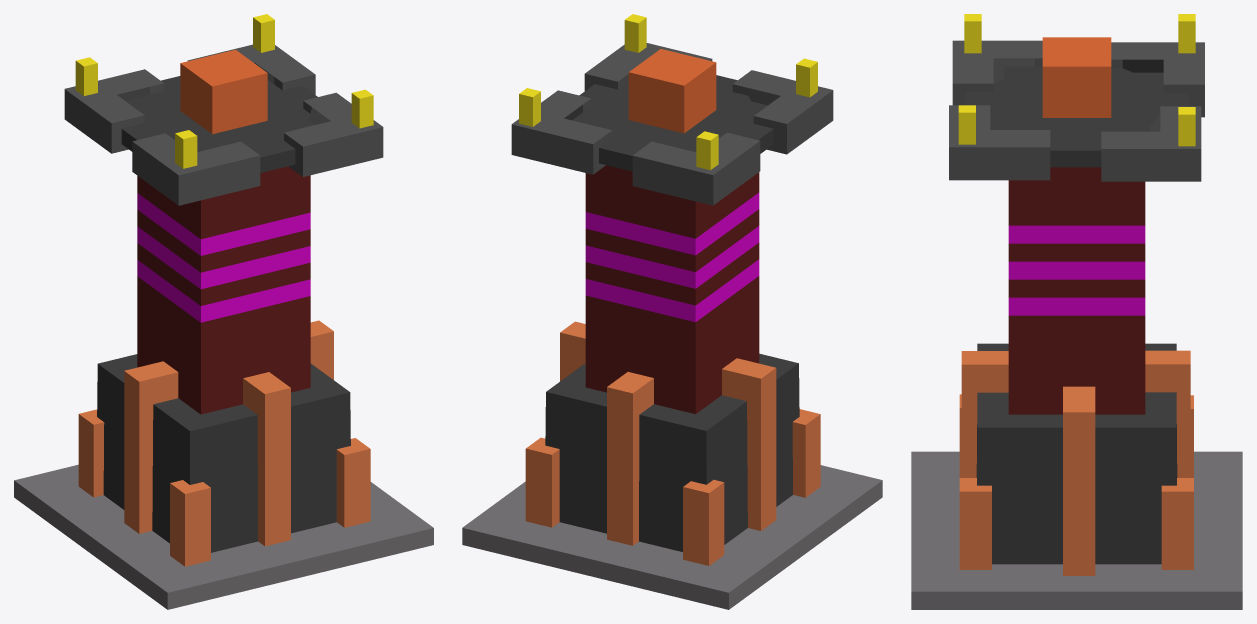
The model's file is turret_Lv3.fbx.
3 views of the same model, side by side, from view 1: azimuth 30°, elevation 25°; view 2: azimuth 150°, elevation 25°; view 3: azimuth 270°, elevation 25° (orthographic). The views are drawn at different scales.
Visible parts, largest first — view 1: Cube.001; view 2: Cube.001; view 3: Cube.001.
Part boxes in pixels (box(x1,y1,x2,y2)): Cube.001: box(14, 14, 433, 609); Cube.001: box(462, 14, 882, 609); Cube.001: box(911, 14, 1242, 609).
Size of the model in its own units: 86.51 by 141 by 86.51.
